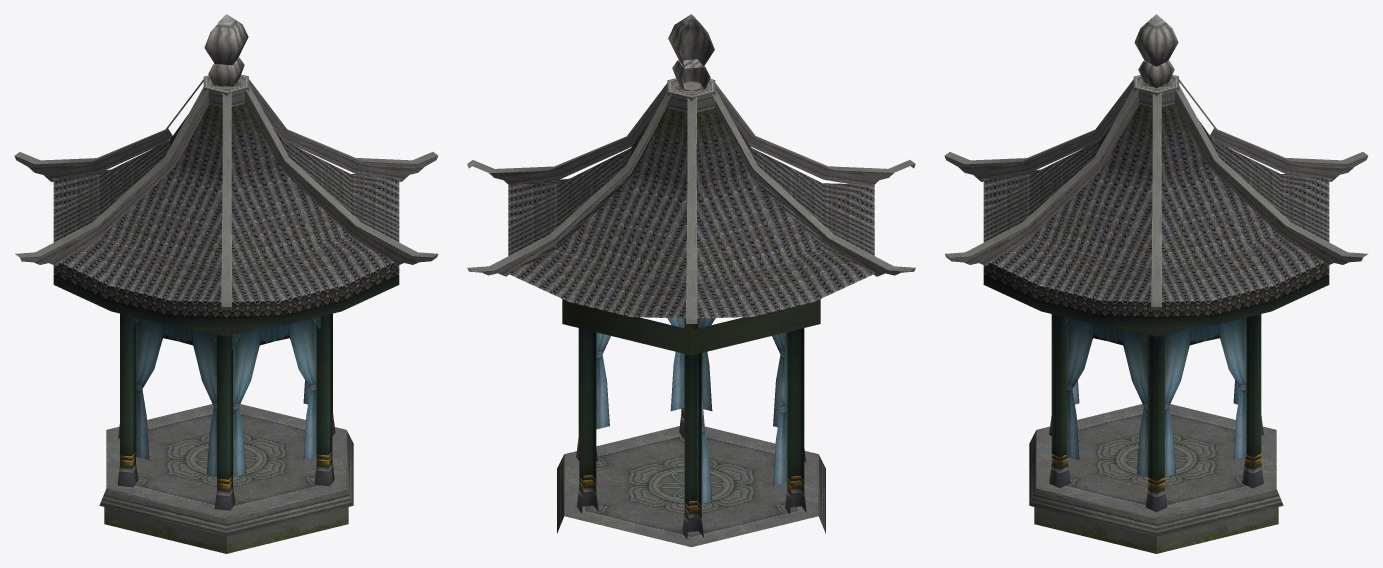
File: yw_yanziwu_tingzi.FBX
3 renders of one model, left to right at view 1: azimuth 30°, elevation 25°; view 2: azimuth 150°, elevation 25°; view 3: azimuth 270°, elevation 25°, orthographic. The views are drawn at different scales.
Visible parts, largest first — view 1: yw_yanziwu_tingzi; view 2: yw_yanziwu_tingzi; view 3: yw_yanziwu_tingzi.
Boxes of the visible parts, x1=… form: yw_yanziwu_tingzi: x1=14, y1=14, x2=438, y2=553; yw_yanziwu_tingzi: x1=467, y1=14, x2=915, y2=547; yw_yanziwu_tingzi: x1=944, y1=14, x2=1368, y2=553.
Size of the model in its own units: 1035 by 1135 by 908.
